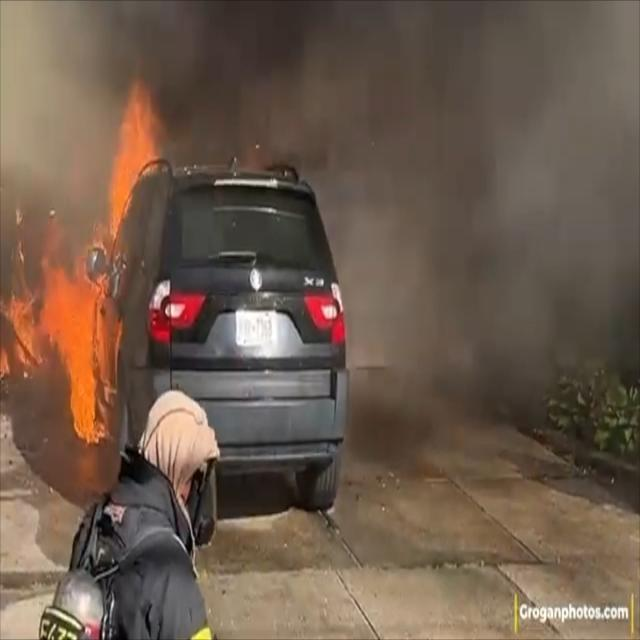fire: (0, 70, 165, 438)
